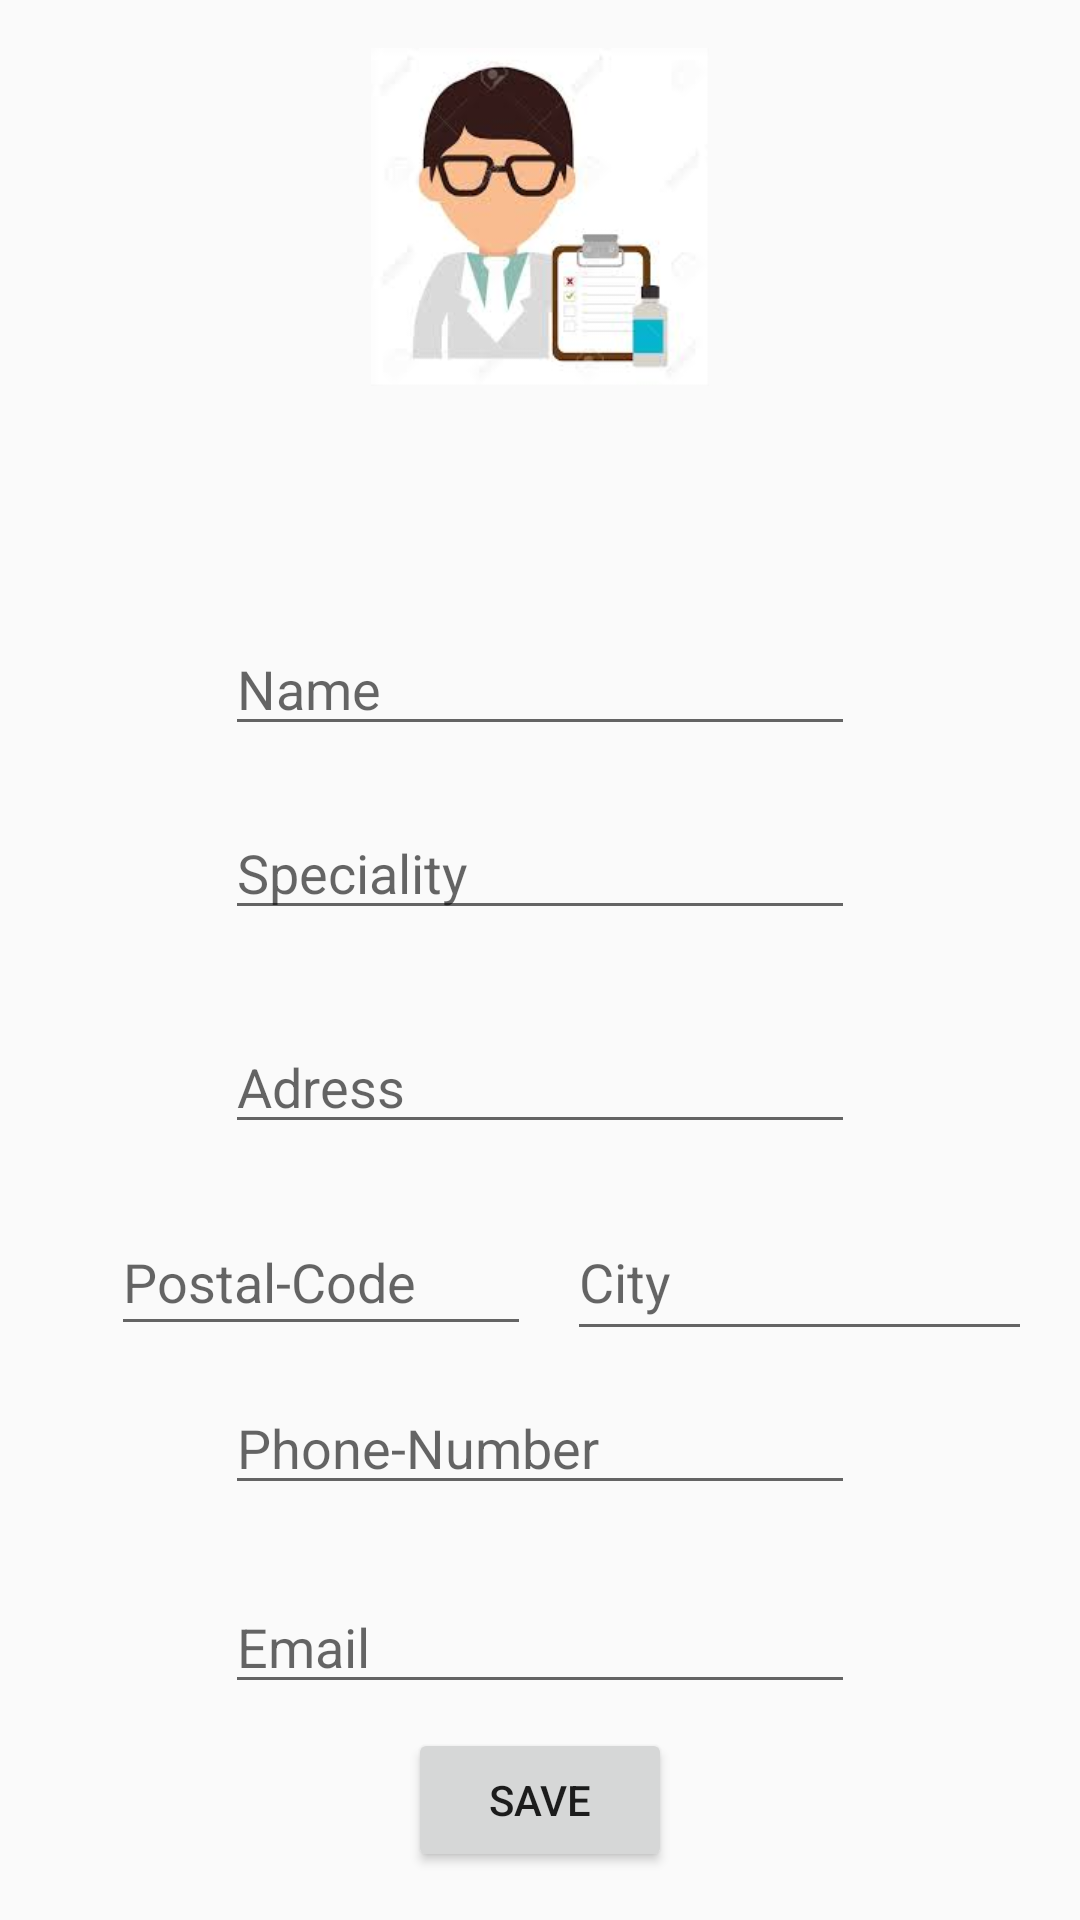

Where to tap for icons on this 1080px×1920px app screen, as point (x, y):
medd: point (540, 216)
